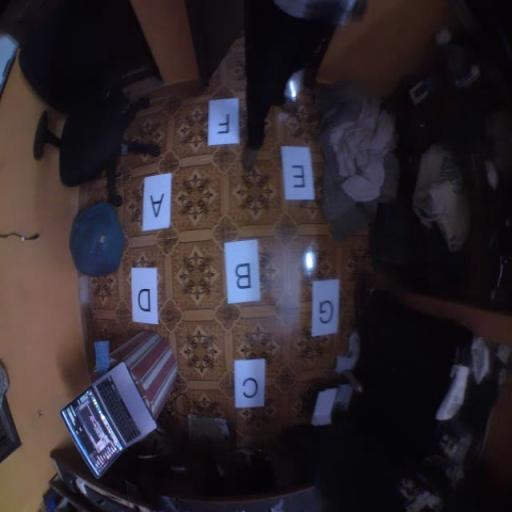A: (142, 173, 172, 231)
B: (224, 239, 261, 304)
C: (234, 358, 266, 408)
D: (130, 267, 158, 324)
E: (281, 145, 315, 201)
F: (207, 98, 240, 145)
G: (311, 278, 340, 337)
